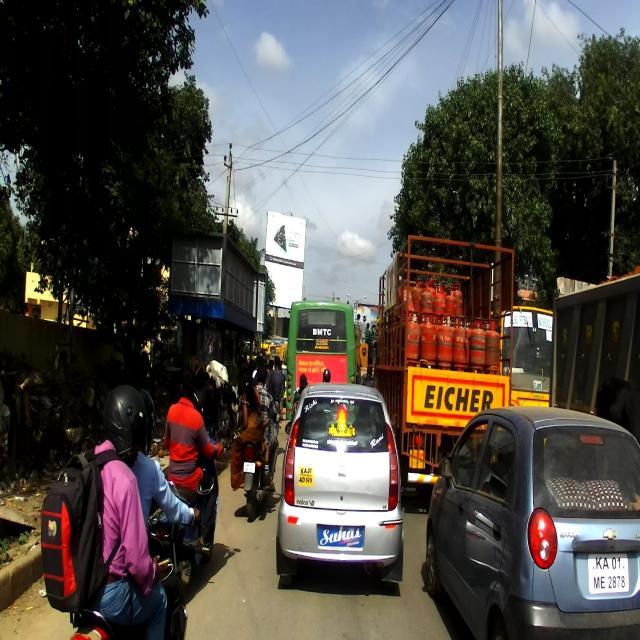Car_Chevrolet: (424, 411, 639, 637)
Car_TATA: (278, 382, 406, 592)
motorcycle_Hero: (241, 413, 280, 522)
truck: (367, 235, 516, 500)
